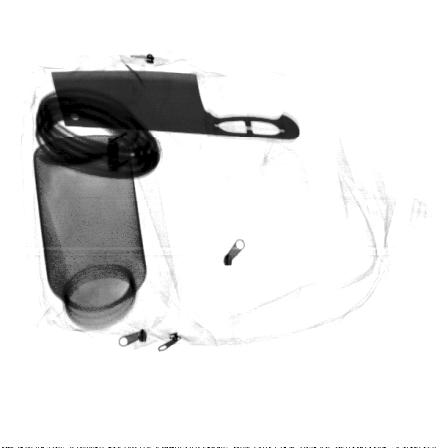Knife: (50, 69, 301, 140)
